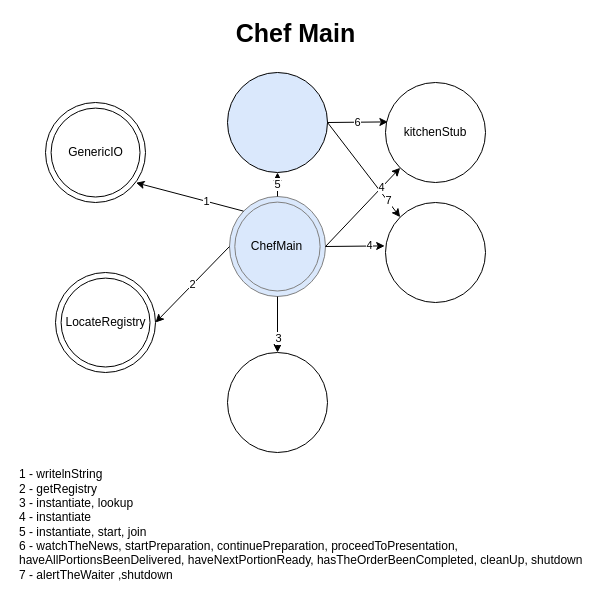
The diagram is 602 pixels wide and 609 high, and some of its shapes have lost their labels. The centre of each missing label's shape, as x and y in pixels:
barStub: pixel 435 252
chef: pixel 277 122
registry: pixel 277 402
